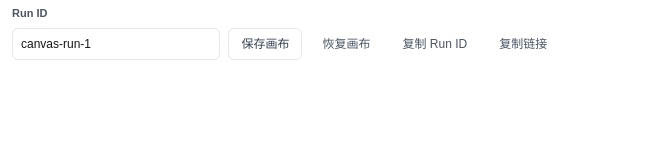
Test: ProductionCanvasRunControls › clears stale copy status when the run id changes
Click the button "复制 Run ID": (435, 44) [390,28,479,60]
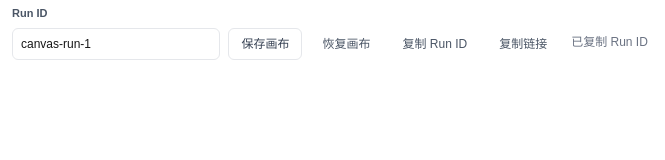
Expected: the text "已复制 Run ID" is shown, [571,35,648,49]
